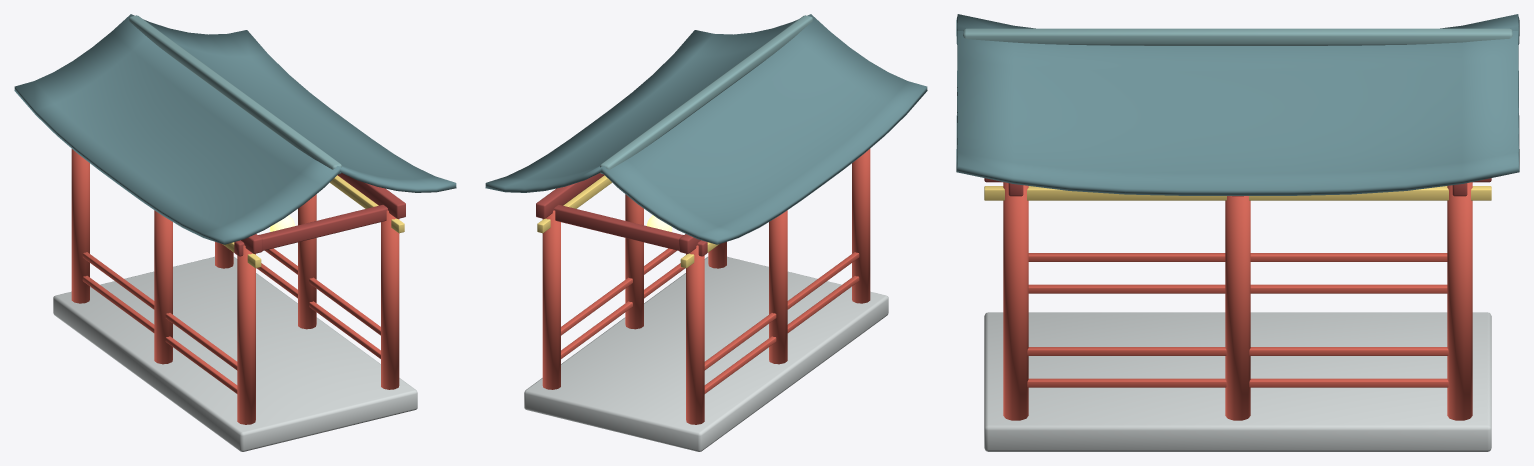
The model's file is corridor.glb.
3 views of the same model, side by side, from view 1: azimuth 30°, elevation 25°; view 2: azimuth 150°, elevation 25°; view 3: azimuth 270°, elevation 25° (orthographic). The views are drawn at different scales.
Visible parts, largest first — view 1: Roof, Base, Ridge, Col, Col.001, Col.002, Col.004, Tie, Col.003, Rail, RailB, RailB.001 (+3 smaller); view 2: Roof, Base, Ridge, Col.004, Col.005, Col.002, Col, Tie.002, Col.003, Rail, RailB, RailB.001 (+3 smaller); view 3: Roof, Base, Ridge, Col.001, Col.005, Col.003, RailB.001, RailB, Trim.001, Rail.001, Rail.
Part boxes in pixels (left/top/right/bottom): Roof: left=14, top=14, right=456, bottom=244; Base: left=53, top=256, right=417, bottom=451; Ridge: left=129, top=15, right=341, bottom=174; Col: left=237, top=245, right=255, bottom=424; Col.001: left=381, top=210, right=399, bottom=389; Col.002: left=154, top=210, right=172, bottom=364; Col.004: left=71, top=149, right=89, bottom=303; Tie: left=234, top=204, right=387, bottom=256; Col.003: left=298, top=194, right=316, bottom=329; Rail: left=82, top=252, right=237, bottom=370; RailB: left=82, top=275, right=237, bottom=393; RailB.001: left=256, top=263, right=380, bottom=358; Roof: left=485, top=14, right=927, bottom=244; Base: left=524, top=256, right=888, bottom=451; Ridge: left=600, top=15, right=812, bottom=174; Col.004: left=686, top=245, right=704, bottom=424; Col.005: left=542, top=210, right=560, bottom=389; Col.002: left=769, top=210, right=787, bottom=364; Col: left=852, top=149, right=870, bottom=303; Tie.002: left=554, top=204, right=707, bottom=256; Col.003: left=625, top=194, right=643, bottom=329; Rail: left=704, top=252, right=859, bottom=370; RailB: left=704, top=275, right=859, bottom=393; RailB.001: left=561, top=263, right=685, bottom=358; Roof: left=956, top=14, right=1519, bottom=195; Base: left=984, top=312, right=1491, bottom=451; Ridge: left=963, top=28, right=1512, bottom=45; Col.001: left=1003, top=182, right=1028, bottom=420; Col.005: left=1447, top=182, right=1472, bottom=420; Col.003: left=1225, top=196, right=1250, bottom=420; RailB.001: left=1027, top=378, right=1448, bottom=387; RailB: left=1028, top=284, right=1447, bottom=293; Trim.001: left=984, top=186, right=1491, bottom=200; Rail.001: left=1027, top=347, right=1448, bottom=355; Rail: left=1028, top=253, right=1447, bottom=261.
Bounding box in the file's own units: 3.4 × 3.81 × 5.33.
